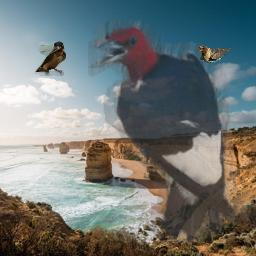Swallow: (35, 41, 66, 76), (197, 45, 231, 63)
Woodpecker: (88, 17, 247, 242)
